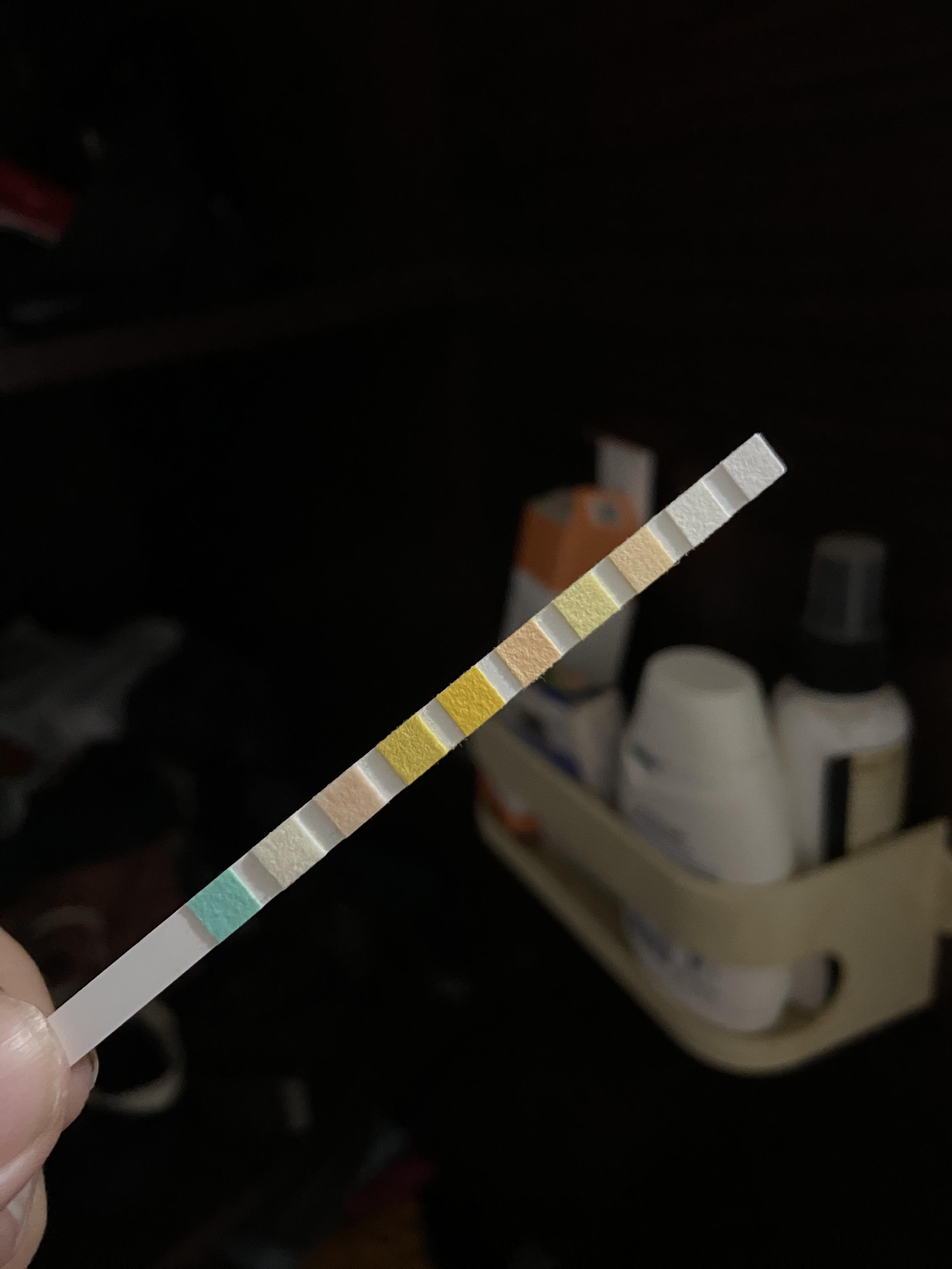Bilirubin: (270, 833, 306, 872)
Blood: (455, 681, 490, 720)
Glucose: (208, 884, 246, 924)
Ketone: (333, 783, 369, 820)
Leukocytes: (739, 449, 770, 484)
Nitrite: (684, 494, 714, 530)
Protein: (572, 586, 603, 623)
SpGravity: (397, 731, 430, 768)
Urobilinogen: (626, 540, 659, 576)
pH: (512, 633, 547, 670)
strip: (56, 434, 787, 1050)
